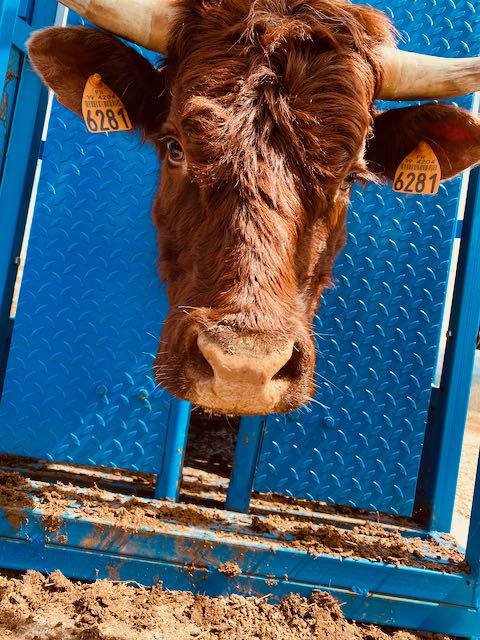muzzles: (143, 312, 328, 422)
